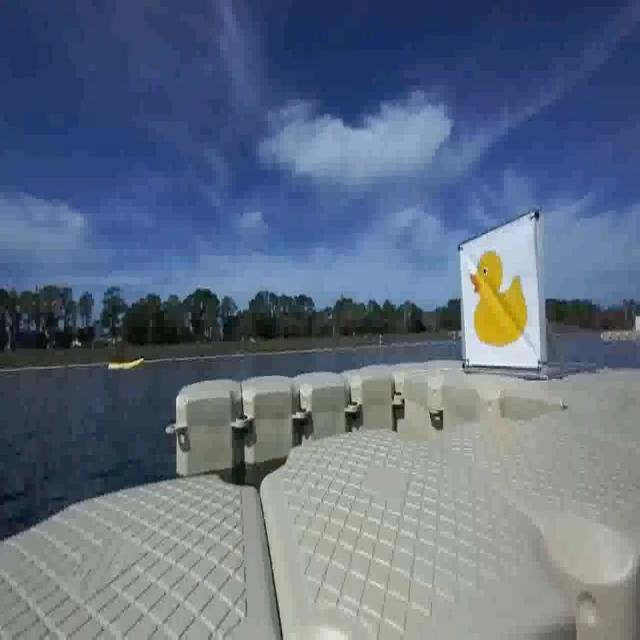yellow-duck: (468, 246, 528, 347)
